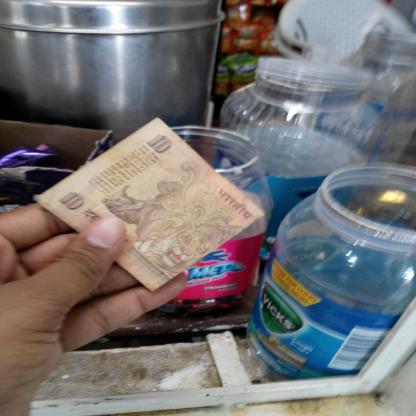Old10Back: (34, 118, 266, 293)
